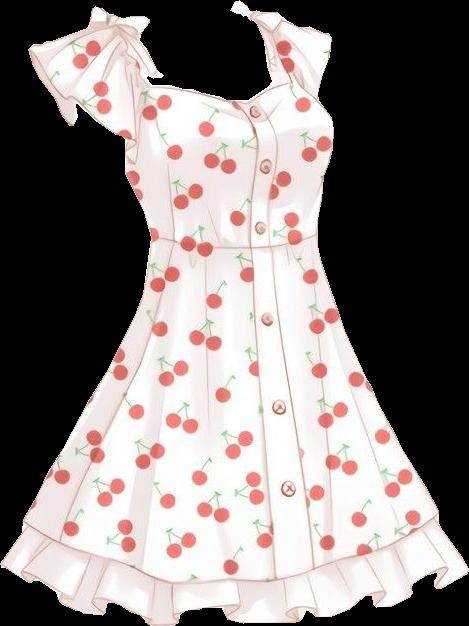Bodice: (113, 11, 332, 248)
Hemline: (0, 559, 468, 625)
Neckline: (126, 11, 273, 105)
Skirt: (0, 238, 468, 625)
Sleeve: (28, 23, 134, 169)
Sleeveline: (110, 23, 136, 169)
Waistline: (22, 509, 441, 587), (149, 232, 319, 253)
